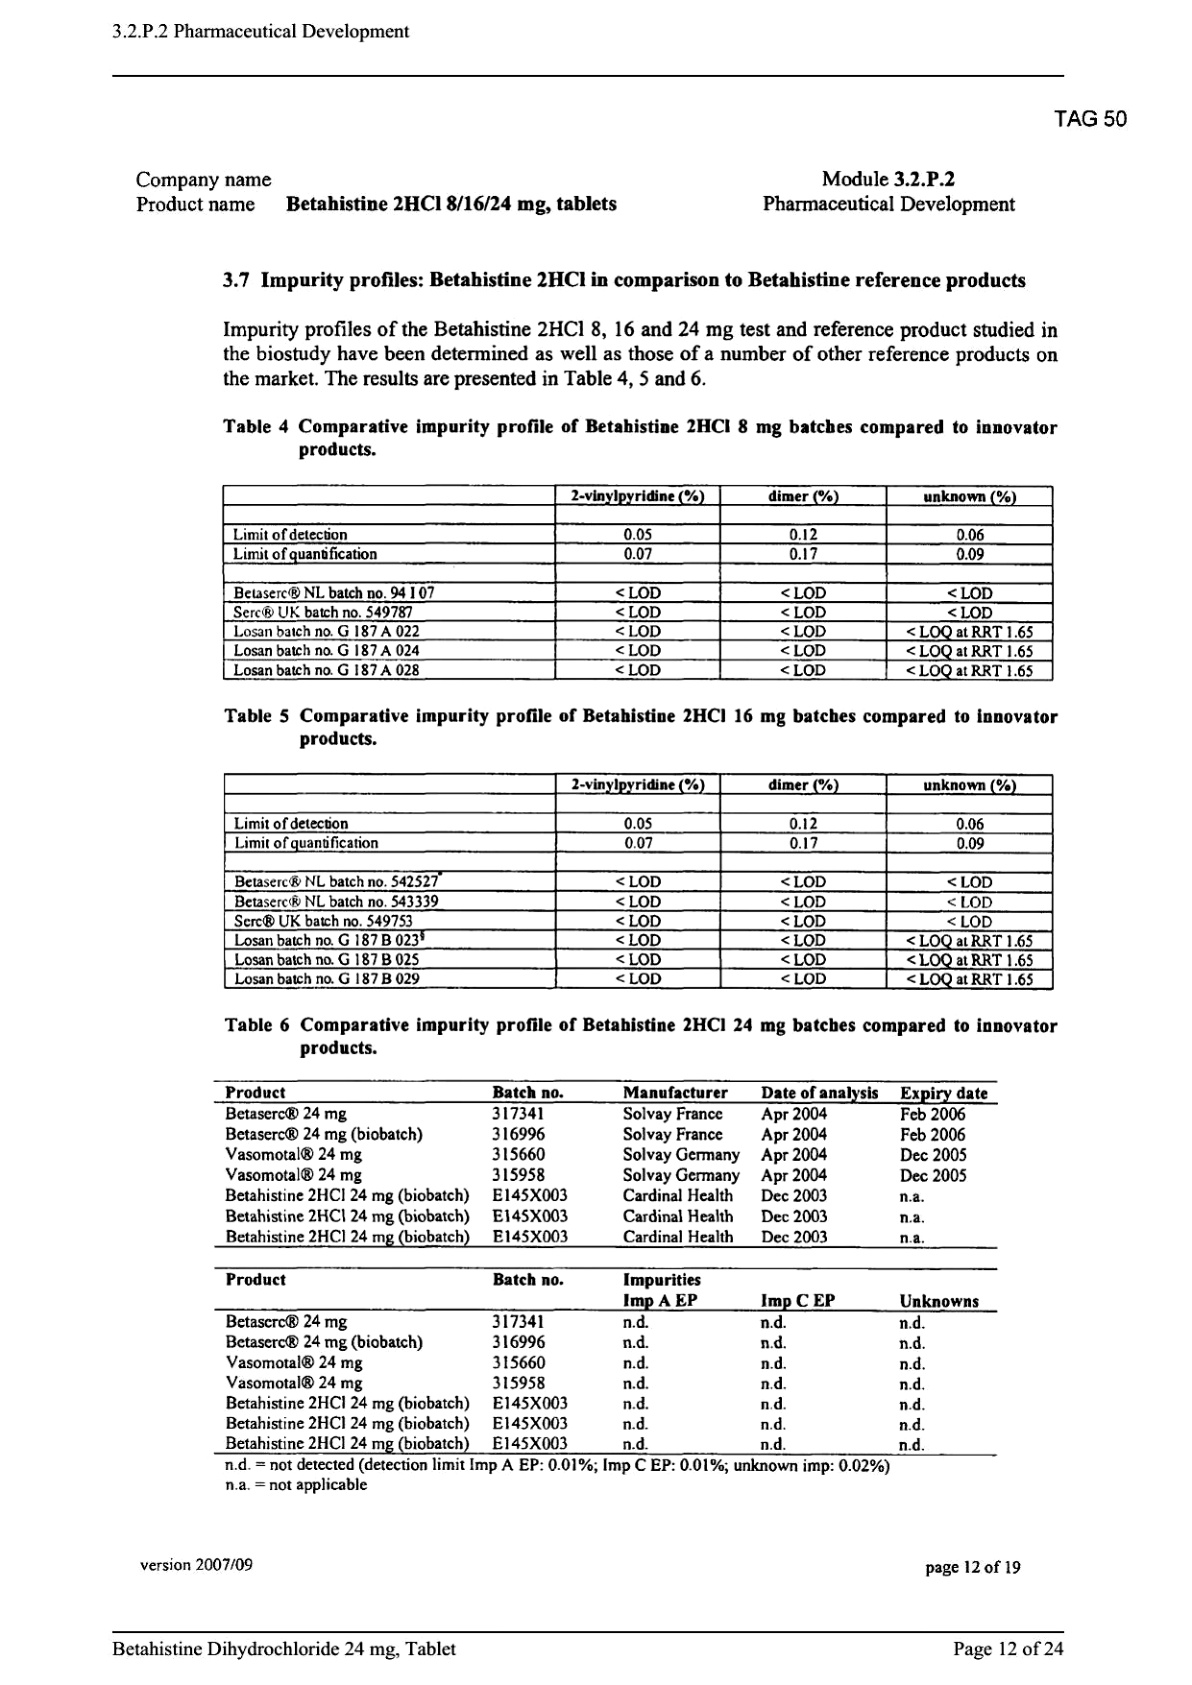full_lined: (222, 770, 1055, 991), (221, 483, 1055, 683)
partial_lined: (212, 1267, 998, 1457), (212, 1079, 998, 1248)
